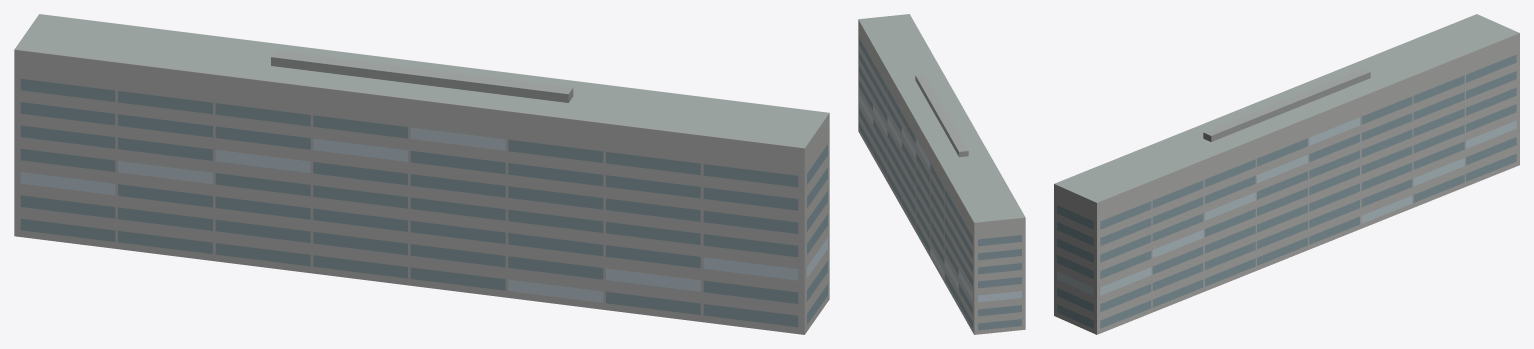
File: fallback-raemian-blesstige-223.glb
3 renders of one model, left to right at view 1: azimuth 30°, elevation 25°; view 2: azimuth 150°, elevation 25°; view 3: azimuth 270°, elevation 25°, orthographic. The views are drawn at different scales.
Parts seen in each view (by area): view 1: fallback-raemian-blesstige-223; view 2: fallback-raemian-blesstige-223; view 3: fallback-raemian-blesstige-223.
Boxes of the visible parts, <box> form: fallback-raemian-blesstige-223: <box>14,14,829,334</box>; fallback-raemian-blesstige-223: <box>858,14,1025,334</box>; fallback-raemian-blesstige-223: <box>1054,14,1519,334</box>.
Size of the model in its own units: 79.11 by 27 by 82.45.
